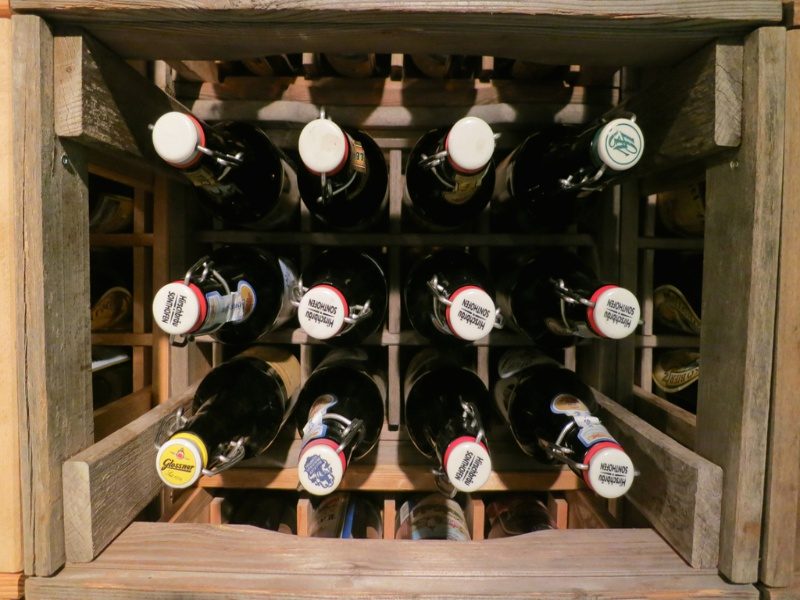wine: (129, 89, 667, 531)
